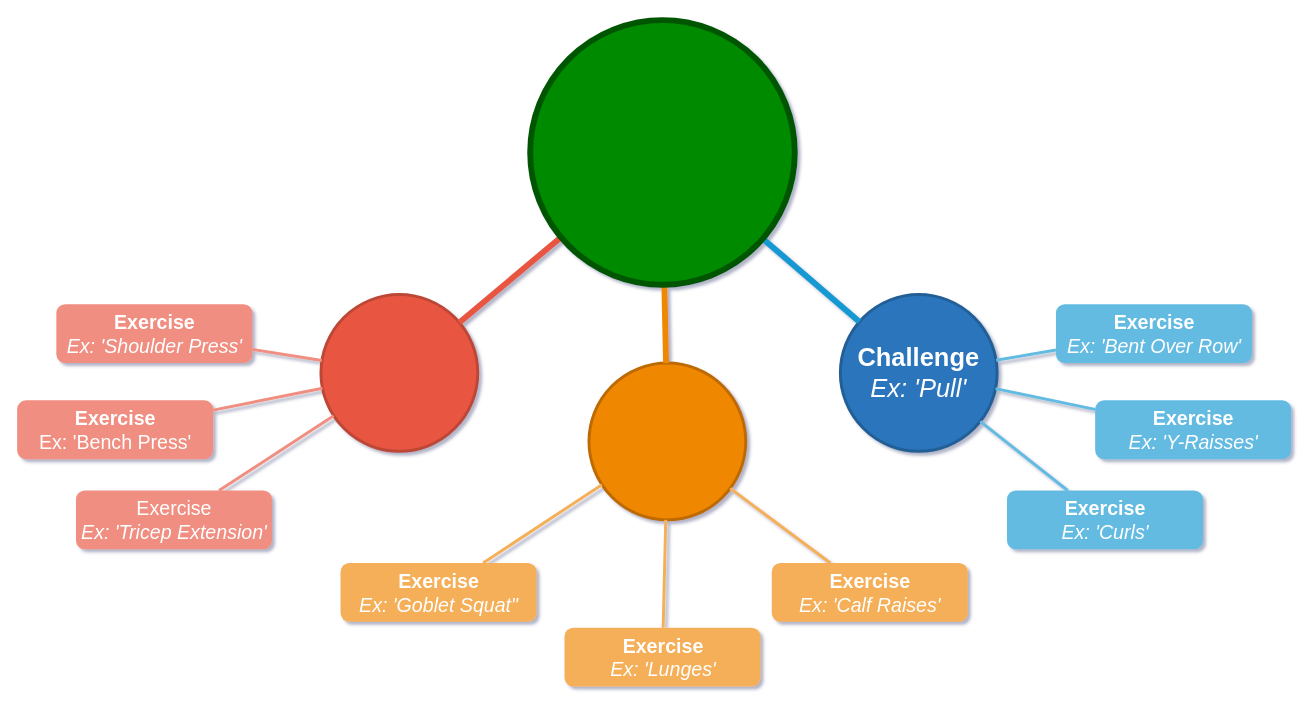
Image size: 1313x709. Some labels were removed from this diagram. Each missing label, with the centre of its shape:
"Challenge Ex: 'Legs'" goes at pixel 667 441.
"Challenge Ex: 'Push'" goes at pixel 399 372.
"PATH Ex: 'Dumbbell Pro'" goes at pixel 662 152.
